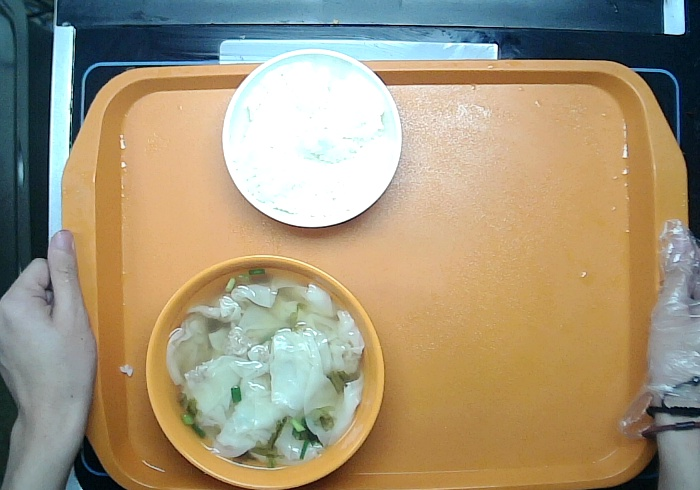NLDX-Fan_Wan: (219, 46, 403, 232)
NLDX-Hun_Tun_Wan: (151, 246, 402, 490)
